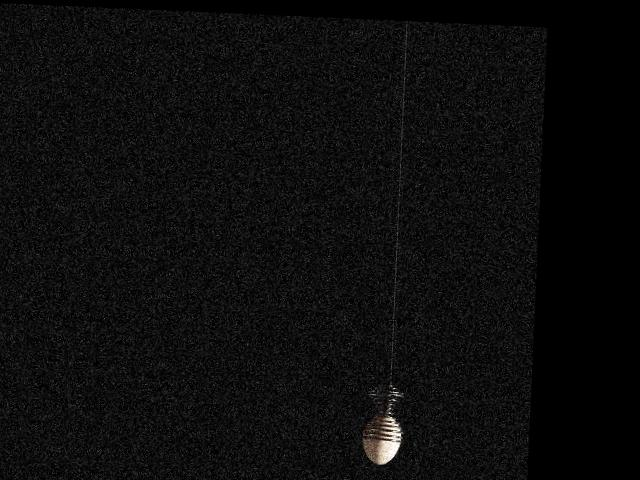egg: (362, 415, 402, 465)
